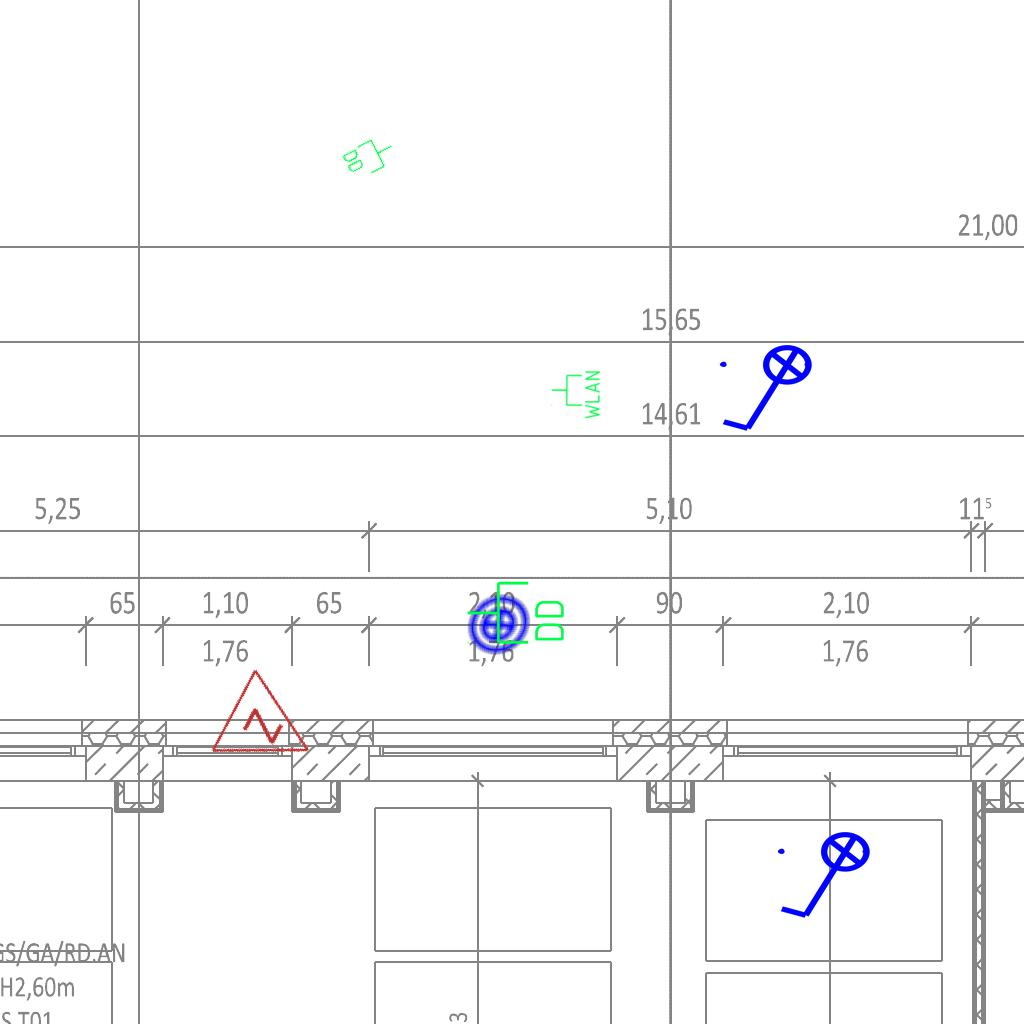Ausschalter_beleuchtet: (714, 343, 826, 439), (772, 830, 884, 926)
Datenanschluss_zweifach: (465, 579, 568, 648), (339, 130, 400, 184)
Taster_beleuchtet: (452, 578, 546, 672)
WLAN: (550, 369, 602, 421)
Zimmersignalleuchte: (203, 662, 339, 796)
